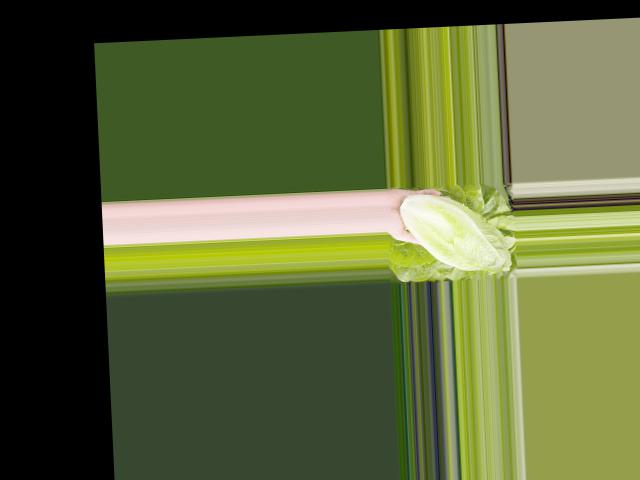lettuce: (397, 187, 512, 277)
